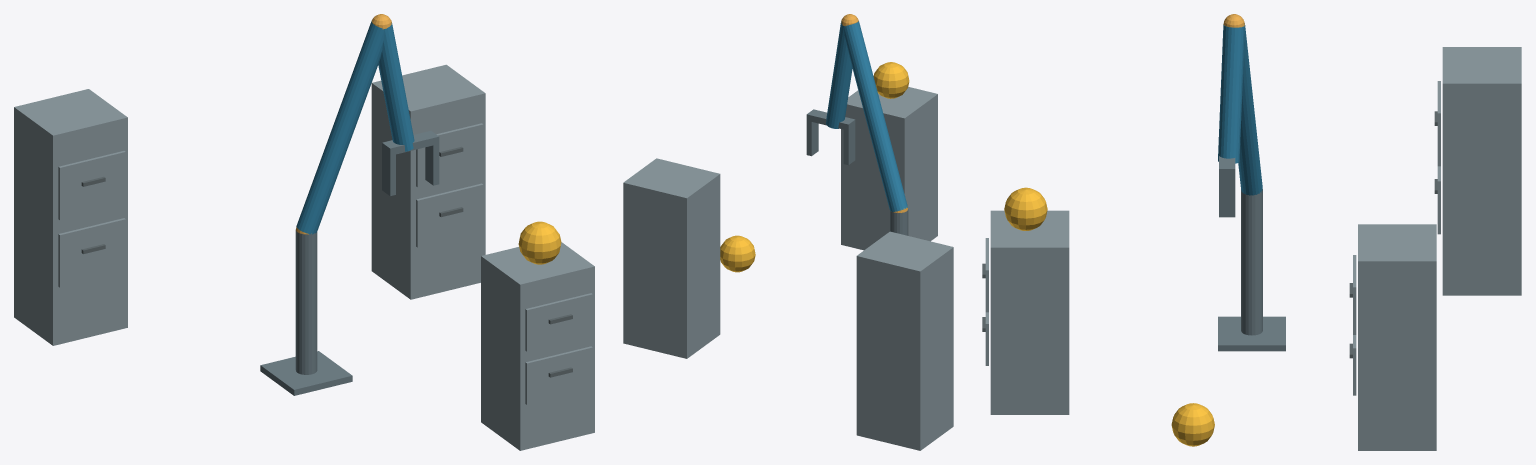
3 views of the same model, side by side, from view 1: azimuth 30°, elevation 25°; view 2: azimuth 150°, elevation 25°; view 3: azimuth 270°, elevation 25° (orthographic). The views are drawn at different scales.
Visible parts, largest first — view 1: cabinet_3 body, cabinet_2 body, cabinet_1 body, moving link 1, cabinet_3 drawer front.001, cabinet_3 drawer front, cabinet_2 drawer front, fixed post, cabinet_1 drawer front, cabinet_1 drawer front.001, cabinet_2 drawer front.001, moving link 2 (+5 smaller); view 2: cabinet_3 body, cabinet_2 body, cabinet_1 body, moving link 1, moving link 2, ball ball_2, released ball_1, gripper finger -1, gripper bridge, gripper finger 1, fixed post; view 3: cabinet_3 body, cabinet_2 body, cabinet_1 body, fixed post, moving link 2, moving link 1, pedestal, ball ball_2, released ball_1, gripper finger 1.
Boxes of the visible parts, <box> form: cabinet_3 body: <box>14,89,127,345</box>; cabinet_2 body: <box>371,64,485,299</box>; cabinet_1 body: <box>481,242,594,450</box>; moving link 1: <box>296,21,384,234</box>; cabinet_3 drawer front.001: <box>58,151,125,220</box>; cabinet_3 drawer front: <box>58,218,125,287</box>; cabinet_2 drawer front: <box>416,183,483,247</box>; fixed post: <box>295,229,317,374</box>; cabinet_1 drawer front: <box>525,346,592,404</box>; cabinet_1 drawer front.001: <box>525,293,592,351</box>; cabinet_2 drawer front.001: <box>416,123,483,187</box>; moving link 2: <box>378,23,414,151</box>; cabinet_3 body: <box>856,231,953,450</box>; cabinet_2 body: <box>623,158,720,358</box>; cabinet_1 body: <box>841,87,937,250</box>; moving link 1: <box>844,21,907,211</box>; moving link 2: <box>826,21,852,128</box>; ball ball_2: <box>720,235,755,272</box>; released ball_1: <box>873,62,909,98</box>; gripper finger -1: <box>843,126,855,165</box>; gripper bridge: <box>806,109,855,130</box>; gripper finger 1: <box>806,120,818,156</box>; fixed post: <box>890,209,908,235</box>; cabinet_3 body: <box>1442,47,1521,295</box>; cabinet_2 body: <box>1358,224,1436,450</box>; cabinet_1 body: <box>990,210,1069,414</box>; fixed post: <box>1241,189,1262,335</box>; moving link 2: <box>1218,25,1244,163</box>; moving link 1: <box>1238,23,1262,195</box>; pedestal: <box>1218,316,1285,351</box>; ball ball_2: <box>1171,403,1214,446</box>; released ball_1: <box>1004,187,1047,230</box>; gripper finger 1: <box>1219,176,1235,217</box>.
Bounding box in the file's own units: 1.69 × 1.44 × 1.98.
